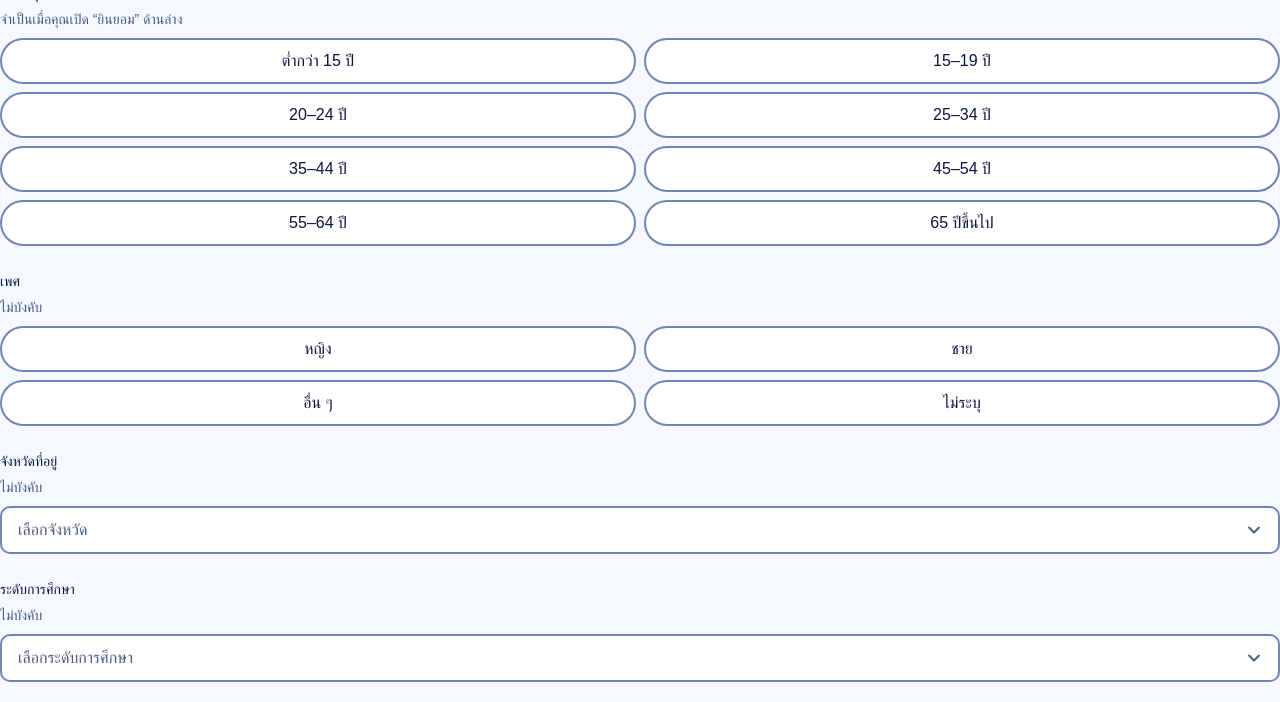
does not send answers when the consent could not be recorded
The width and height of the screenshot is (1280, 702).
Click the radio button labelled "35–44 ปี" at (318, 169), box [0,146,636,192]
(page scrolled)
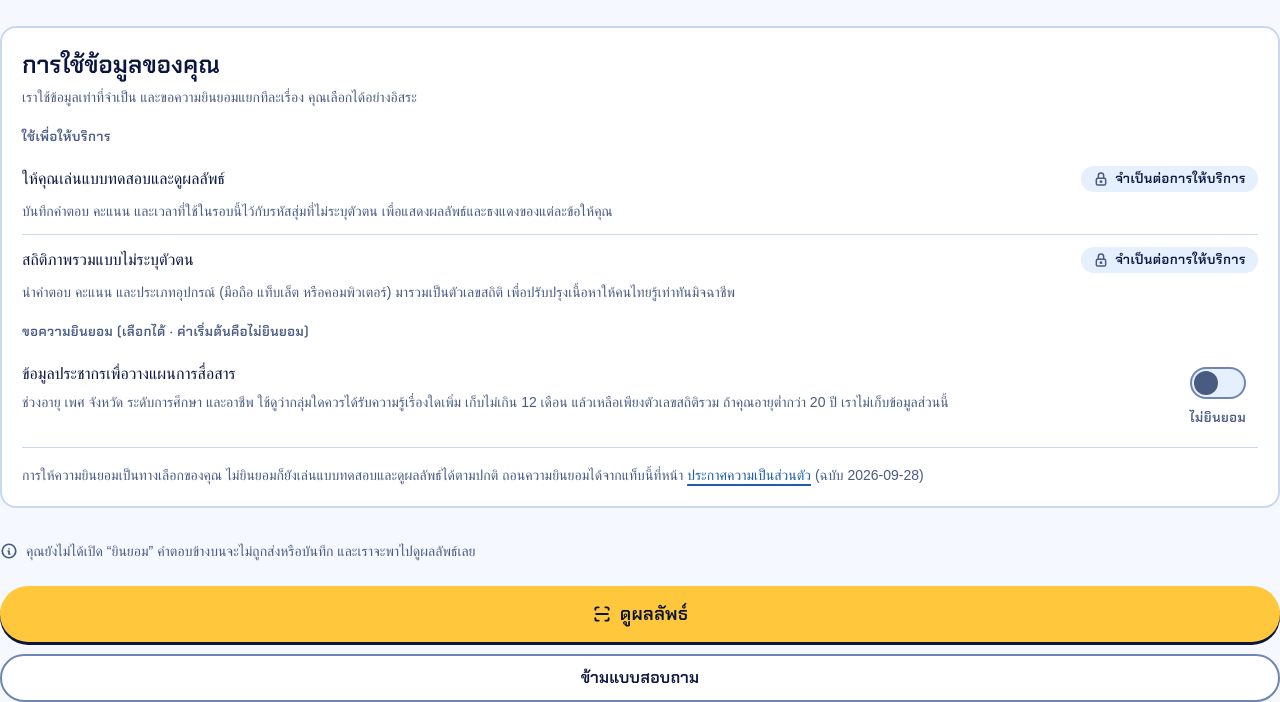
Click the switch labelled "ข้อมูลประชากรเพื่อวางแผนการสื่อสาร" at (129, 374), box [22,365,236,382]
(page scrolled)
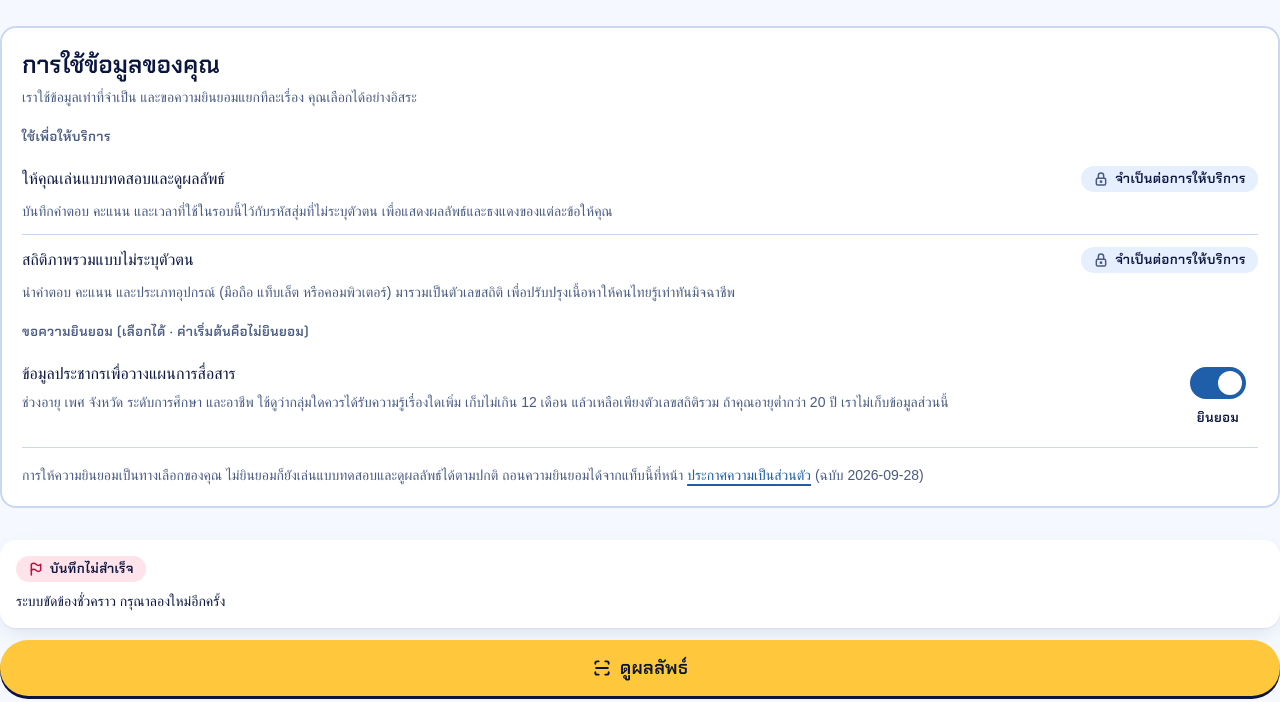
Now the message "บันทึกไม่สำเร็จ ระบบขัดข้องชั่วคราว กรุณาลองใหม่อีกครั้ง" is shown, box [0,540,1279,628]
